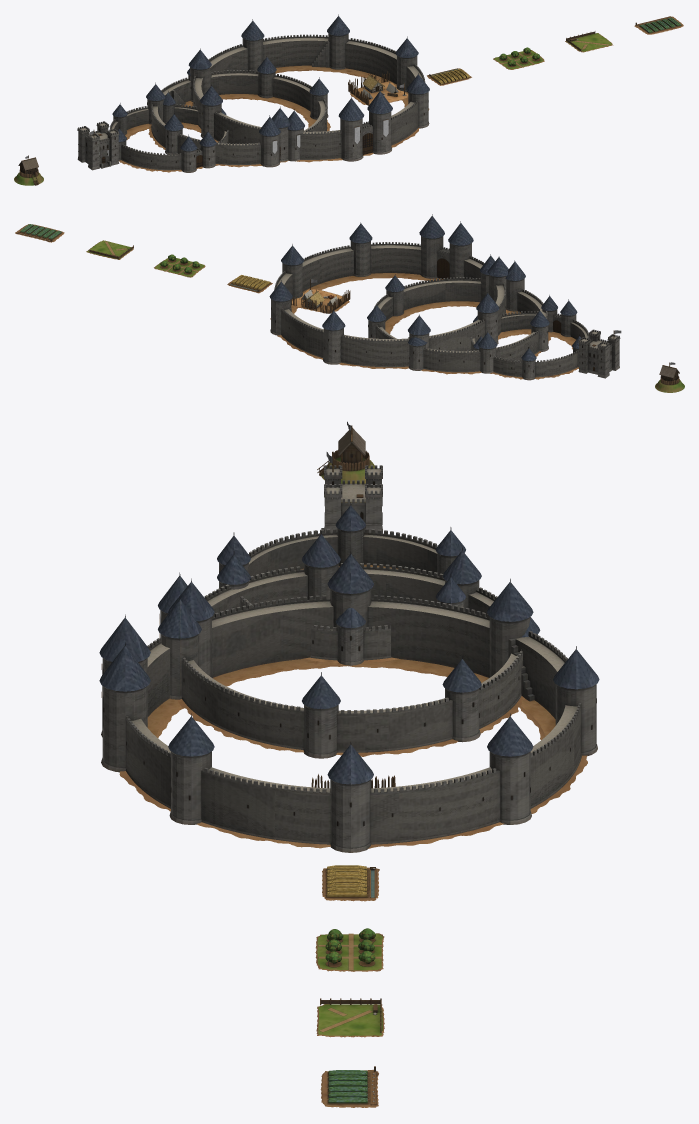
The model's file is shared-kingdoms.glb.
3 views of the same model, one above another, from view 1: azimuth 30°, elevation 25°; view 2: azimuth 150°, elevation 25°; view 3: azimuth 270°, elevation 25° (orthographic). The views are drawn at different scales.
Parts seen in each view (by area): view 1: LOD0.004, LOD0.003, LOD0.002, LOD0.001, LOD0.005, LOD0.007, LOD0.008, LOD0, LOD0.009, LOD0.006; view 2: LOD0.004, LOD0.003, LOD0.002, LOD0.001, LOD0.005, LOD0.007, LOD0, LOD0.008, LOD0.009, LOD0.006; view 3: LOD0.004, LOD0.003, LOD0.002, LOD0.001, LOD0.007, LOD0.008, LOD0.009, LOD0.006, LOD0.
Part boxes in pixels (x1,y1,x2,y2): LOD0.004: (188,14,429,162); LOD0.003: (146,56,330,167); LOD0.002: (109,91,228,172); LOD0.001: (77,121,119,170); LOD0.005: (348,71,408,105); LOD0.007: (493,47,544,69); LOD0.008: (565,31,613,52); LOD0: (14,155,43,185); LOD0.009: (634,16,683,34); LOD0.006: (427,68,471,85); LOD0.004: (269,214,508,369); LOD0.003: (367,254,550,374); LOD0.002: (470,295,589,380); LOD0.001: (578,329,621,378); LOD0.005: (291,279,350,313); LOD0.007: (154,254,205,277); LOD0: (655,362,684,392); LOD0.008: (86,240,133,259); LOD0.009: (15,224,64,242); LOD0.006: (227,275,272,293); LOD0.004: (99,551,599,852); LOD0.003: (158,530,540,758); LOD0.002: (217,502,465,665); LOD0.001: (321,452,382,533); LOD0.007: (315,928,384,971); LOD0.008: (316,998,384,1037); LOD0.009: (320,1066,378,1107); LOD0.006: (322,865,379,901); LOD0: (317,421,374,483).
Size of what is drawn, in the model's own units: 28.42 by 2.46 by 9.29.
3 materials, 3 textured.
